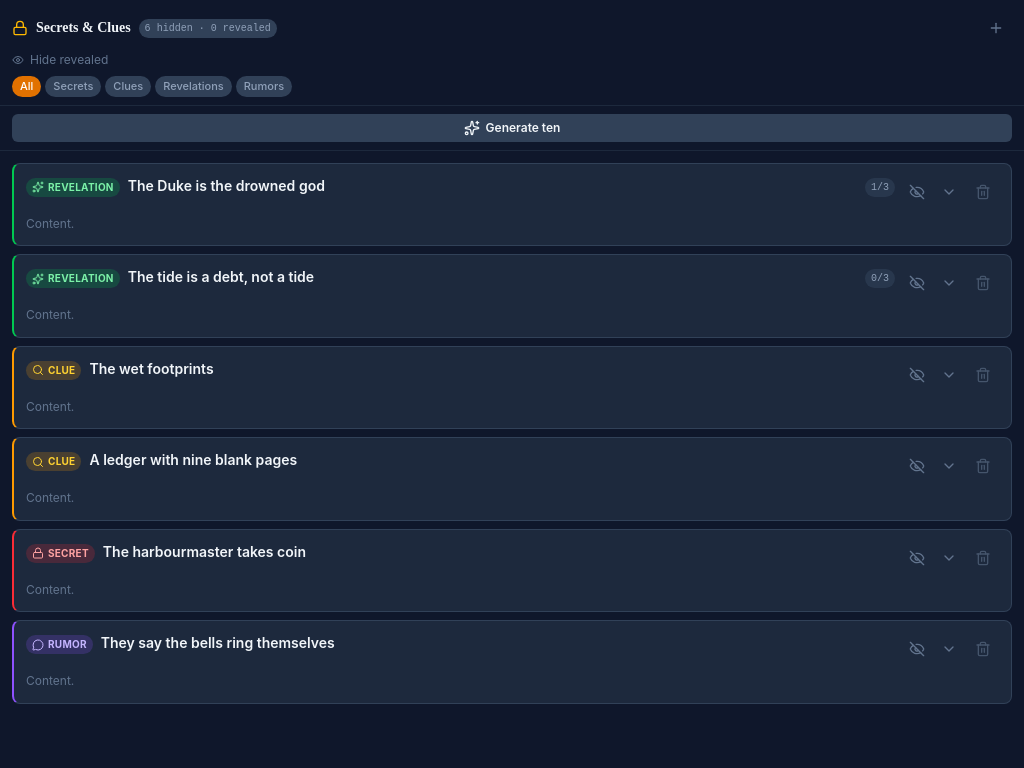
Test case: SecretsTracker — the vital toggle › appears on an expanded revelation card only
Check: the button "vital" is not shown
Click the button "A ledger with nine blank pages": click(193, 460) [90,450,895,470]
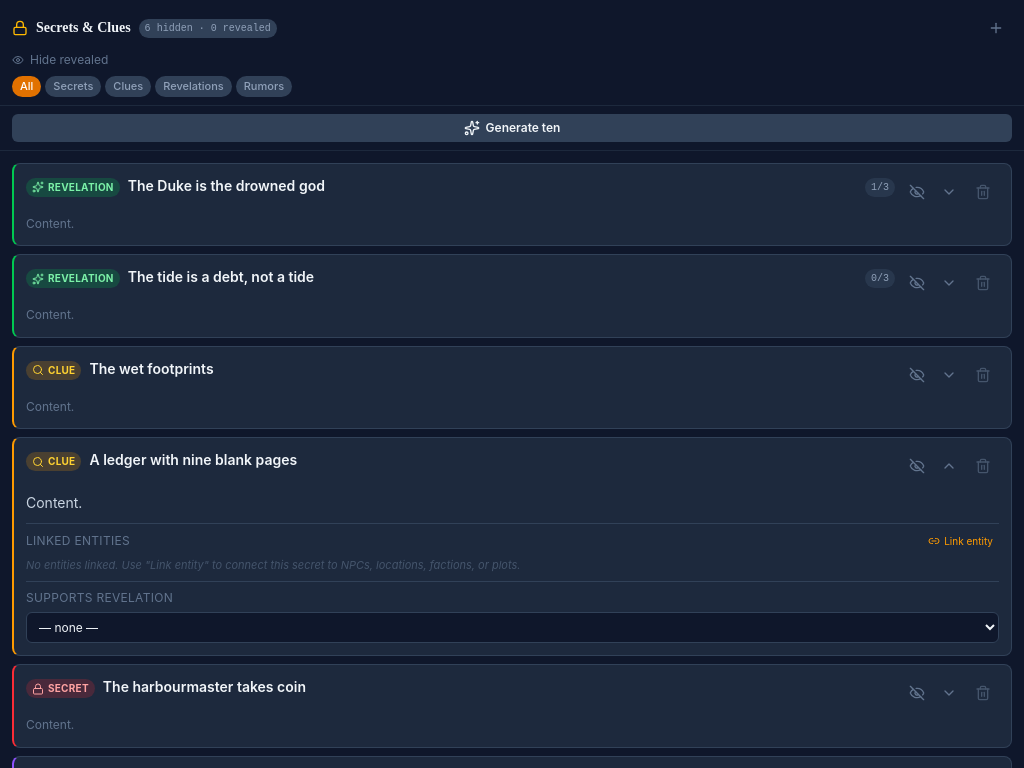
Check: the button "vital" is not shown
Click the button "The Duke is the drowned god": click(226, 185) [128,176,857,196]
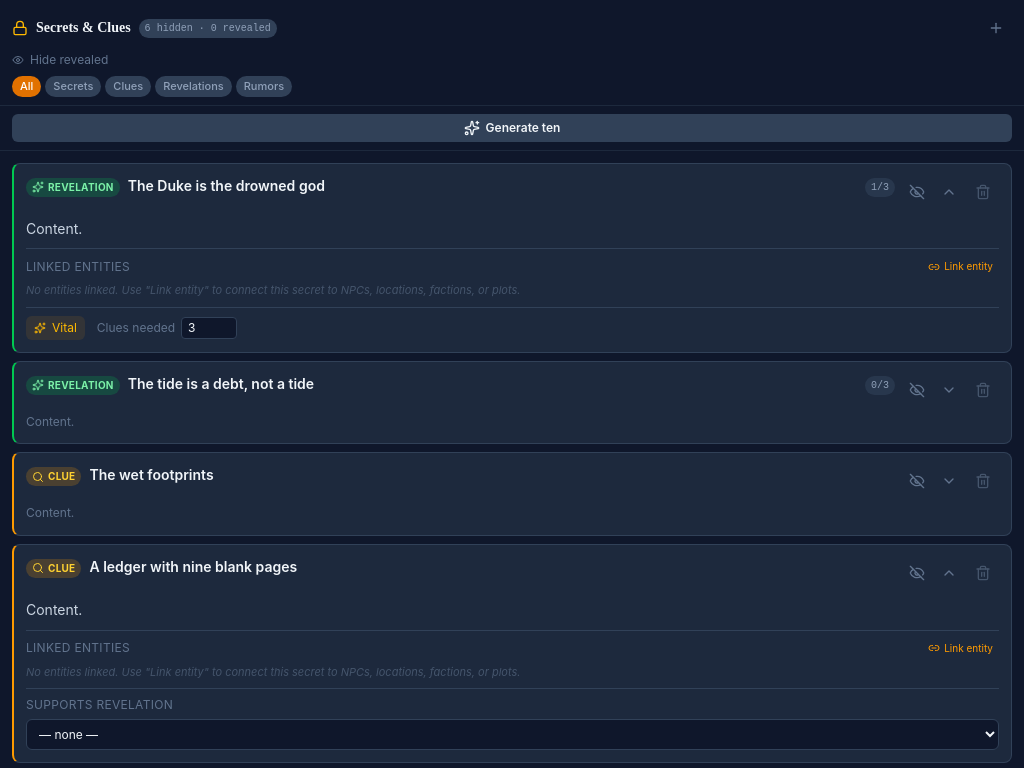
Check: the button "Vital" is shown, box [26,316,85,340]
